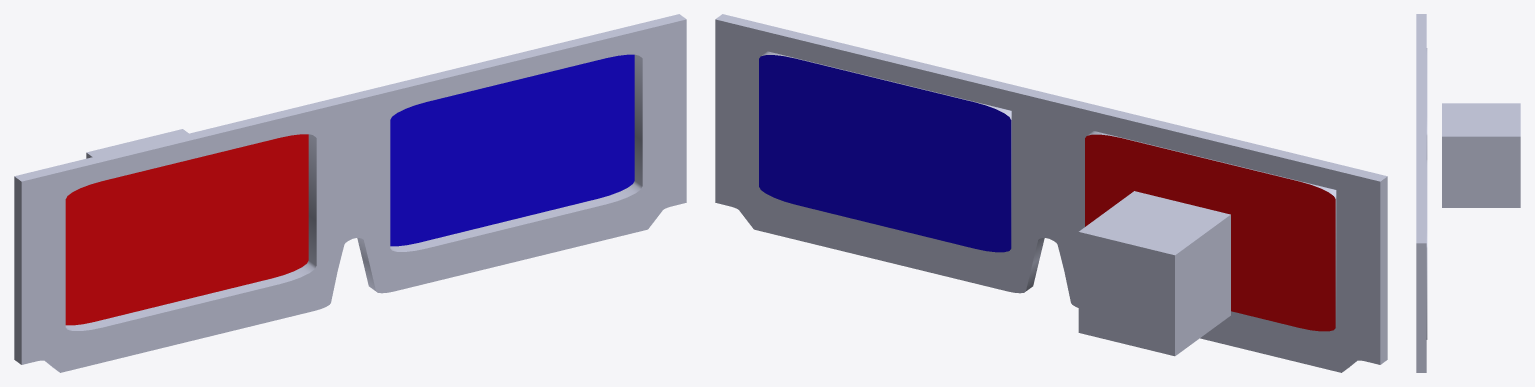
File: glasses1.fbx
3 renders of one model, left to right at view 1: azimuth 30°, elevation 25°; view 2: azimuth 150°, elevation 25°; view 3: azimuth 270°, elevation 25°, orthographic. The views are drawn at different scales.
Parts seen in each view (by area): view 1: Cube.001, Cube; view 2: Cube.001, Cube; view 3: Cube, Cube.001.
Part boxes in pixels (x1,y1,x2,y2): Cube.001: [14, 14, 686, 372]; Cube: [86, 129, 188, 158]; Cube.001: [715, 14, 1387, 372]; Cube: [1078, 191, 1230, 356]; Cube: [1442, 103, 1520, 207]; Cube.001: [1416, 14, 1427, 372].
Size of the model in its own units: 8451 by 2437 by 1628.
